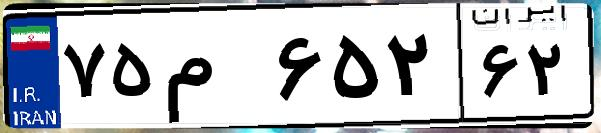2: (385, 28, 445, 110), (525, 38, 570, 115)
5: (330, 28, 385, 110), (110, 28, 158, 98)
6: (270, 28, 330, 110), (475, 38, 525, 113)
7: (57, 26, 110, 100)
م: (158, 20, 270, 120)
